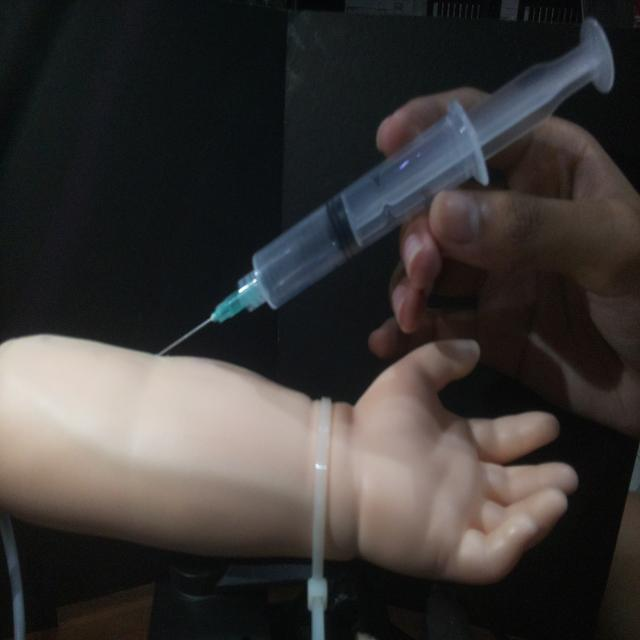25deg: (152, 14, 618, 358)
